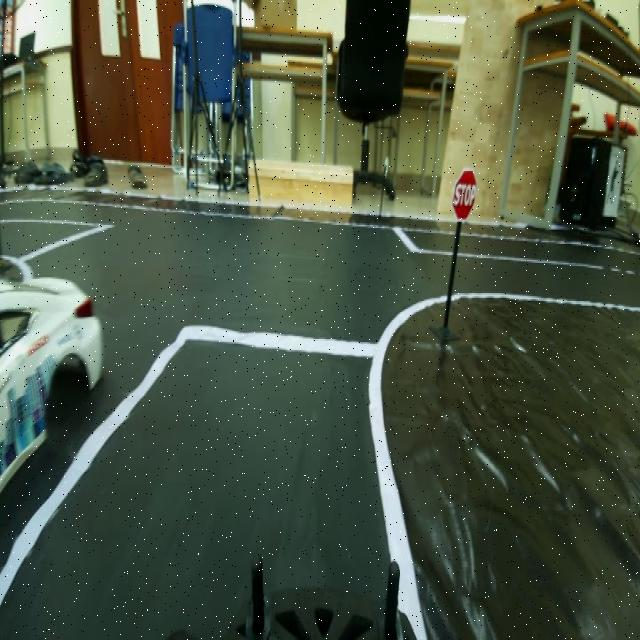car: (0, 257, 102, 453)
stop: (453, 162, 487, 240)
